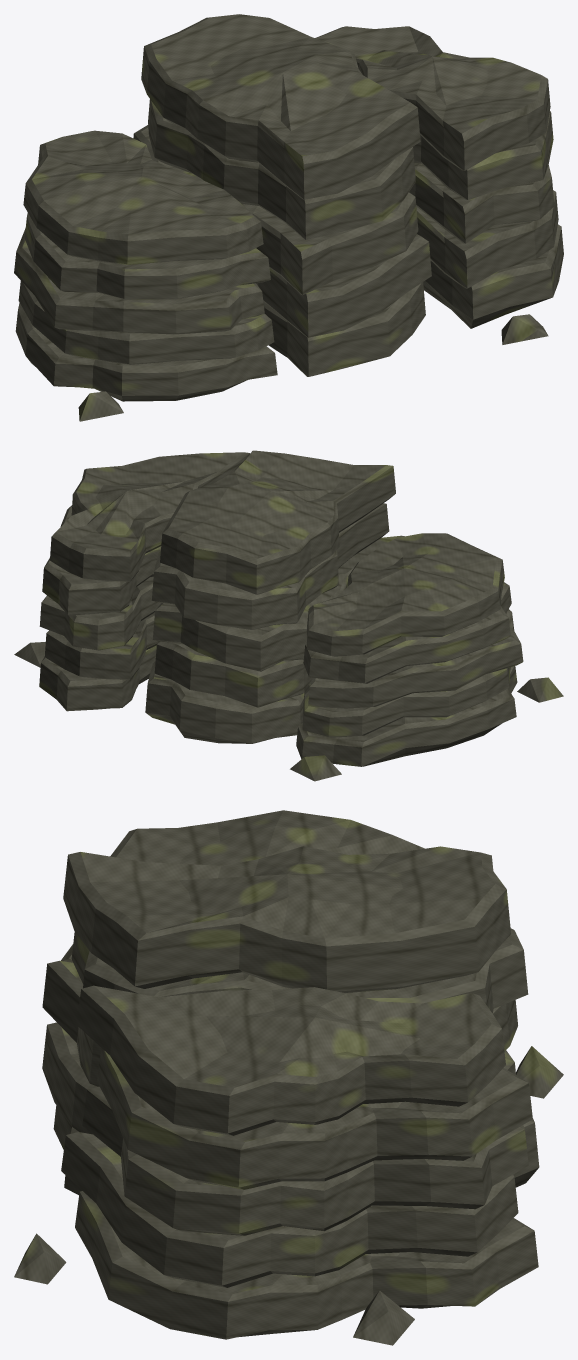
Rendered from frontier_sunmeadow_limestone_lod1.glb.
3 renders of one model, top to bottom at view 1: azimuth 30°, elevation 25°; view 2: azimuth 150°, elevation 25°; view 3: azimuth 270°, elevation 25°, orthographic. The views are drawn at different scales.
Parts seen in each view (by area): view 1: frontier_sunmeadow_limestone_LOD1; view 2: frontier_sunmeadow_limestone_LOD1; view 3: frontier_sunmeadow_limestone_LOD1.
Part boxes in pixels (bbox=[...]): frontier_sunmeadow_limestone_LOD1: bbox=[14, 14, 563, 421]; frontier_sunmeadow_limestone_LOD1: bbox=[14, 450, 563, 781]; frontier_sunmeadow_limestone_LOD1: bbox=[14, 810, 563, 1345].
Bounding box in the file's own units: 5.9 × 2.44 × 3.95.
Materials: 1 (1 with a texture image).
